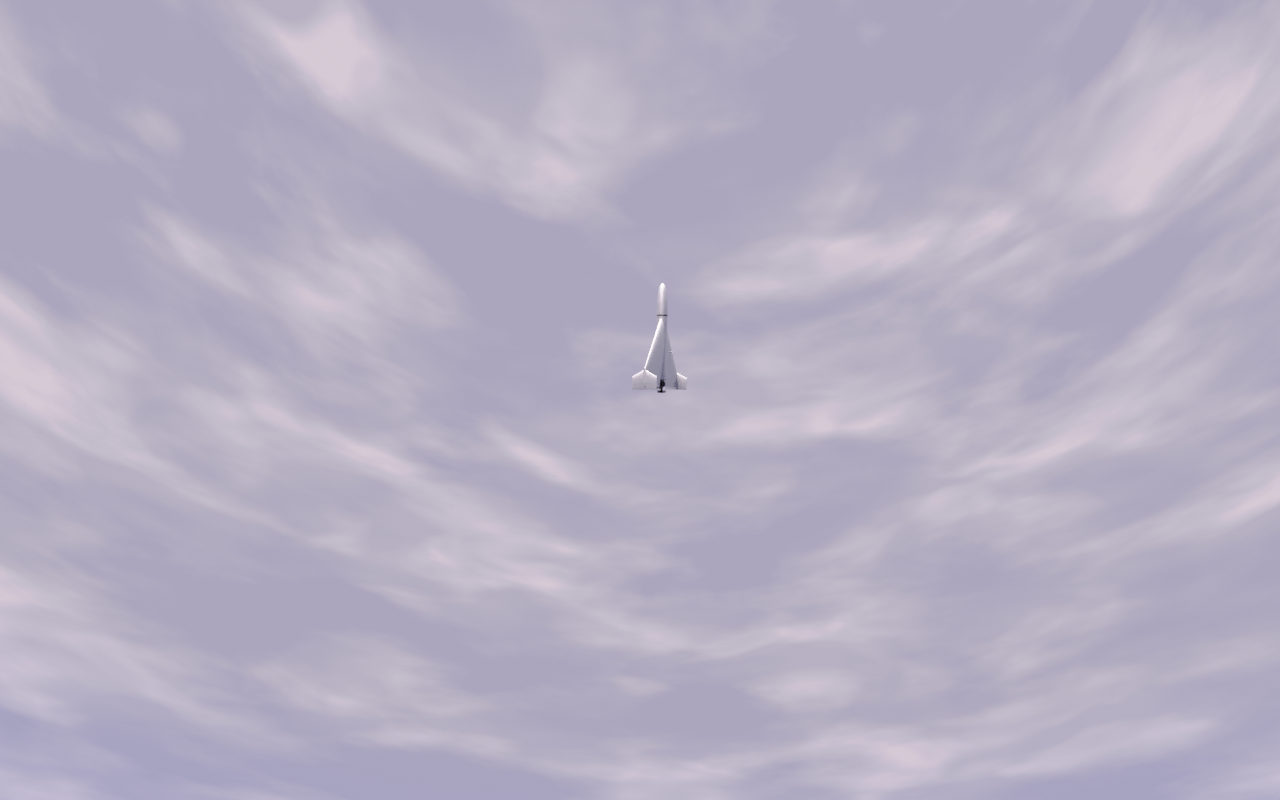shahed: (632, 283, 689, 395)
